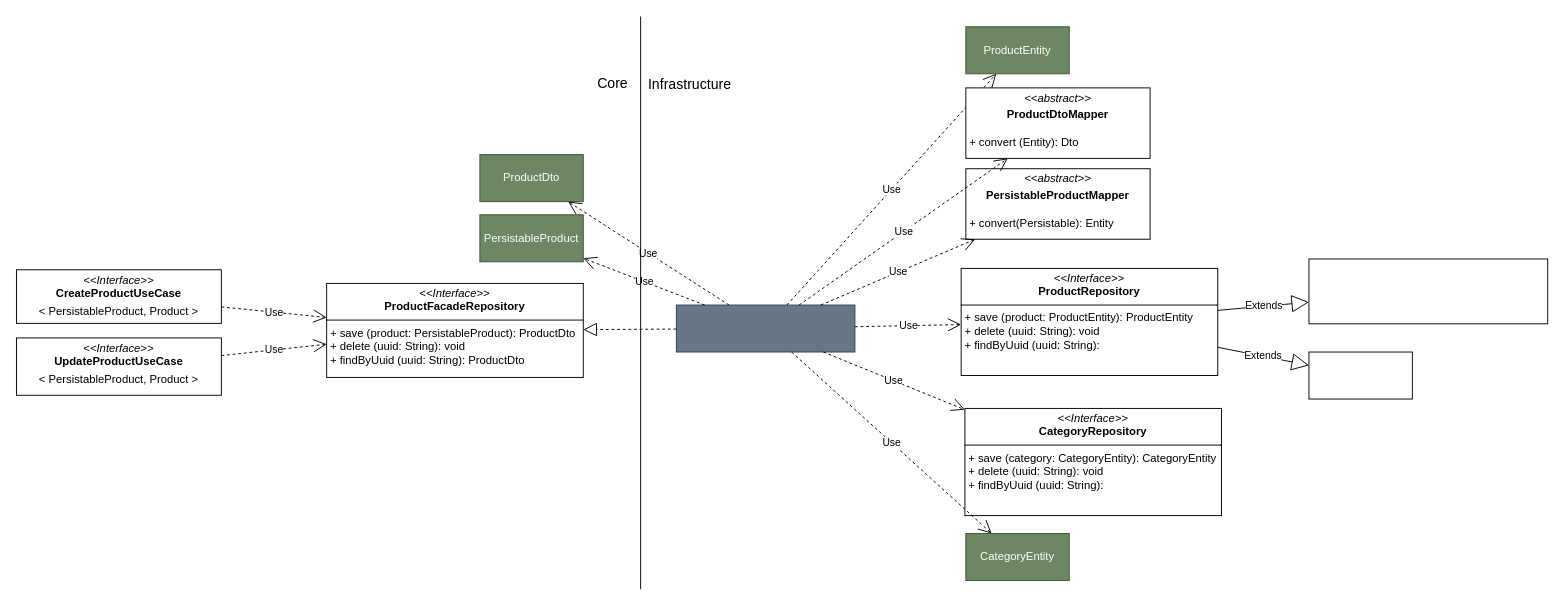
The diagram is 1564 pixels wide and 607 high, and some of its shapes have lost their labels. The centre of each missing label's shape, as x and y in pixels:
<<Interface>> ProductCriteriaRepository + retrieveById (id: Long): ProductEntity: the point at 1428,291
ProductFacadeRepositoryImpl: the point at 765,328
«interface» JpaRepository: the point at 1360,375
